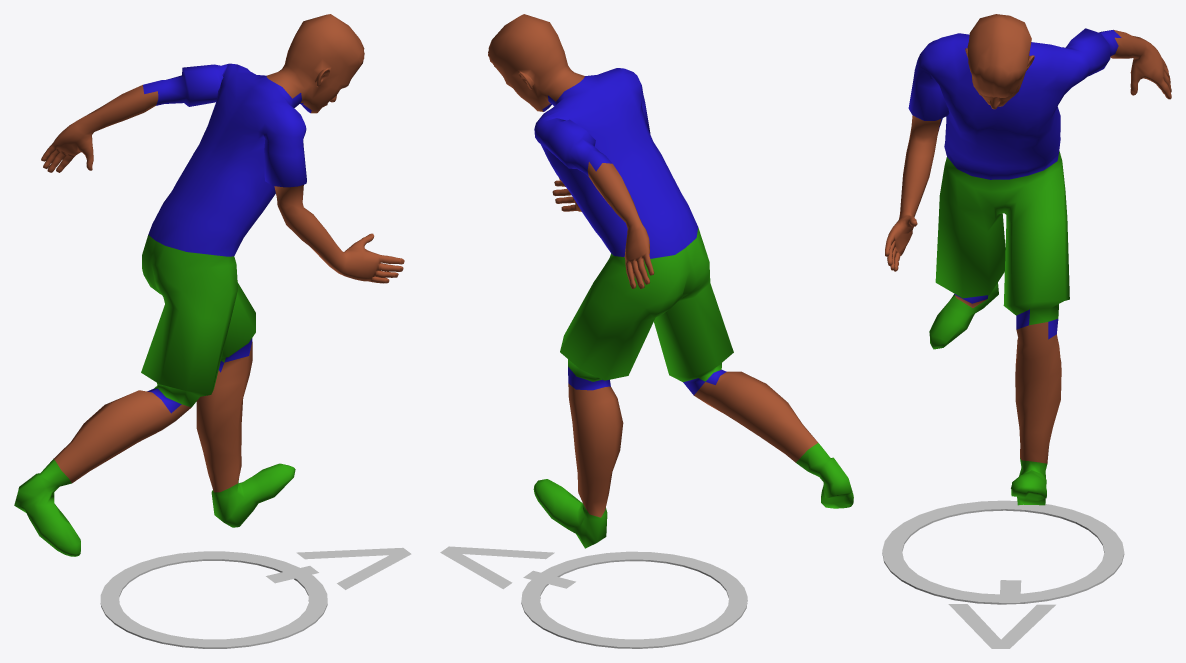
File: playerAI_000009.obj
3 renders of one model, left to right at view 1: azimuth 30°, elevation 25°; view 2: azimuth 150°, elevation 25°; view 3: azimuth 270°, elevation 25°, orthographic. The views are drawn at different scales.
Visible parts, largest first — view 1: soccerplayer.003_mesh.002, Circle.001, Text_Mesh; view 2: soccerplayer.003_mesh.002, Circle.001, Text_Mesh; view 3: soccerplayer.003_mesh.002, Circle.001, Text_Mesh.
Part boxes in pixels (x1=…): soccerplayer.003_mesh.002: x1=14, y1=14, x2=404, y2=556; Circle.001: x1=100, y1=551, x2=327, y2=648; Text_Mesh: x1=266, y1=547, x2=411, y2=589; soccerplayer.003_mesh.002: x1=488, y1=14, x2=853, y2=548; Circle.001: x1=521, y1=551, x2=747, y2=648; Text_Mesh: x1=440, y1=546, x2=575, y2=589; soccerplayer.003_mesh.002: x1=885, y1=14, x2=1171, y2=505; Circle.001: x1=882, y1=500, x2=1124, y2=604; Text_Mesh: x1=948, y1=580, x2=1055, y2=648.
Bounding box in the file's own units: 2.21 × 2.94 × 1.3.
